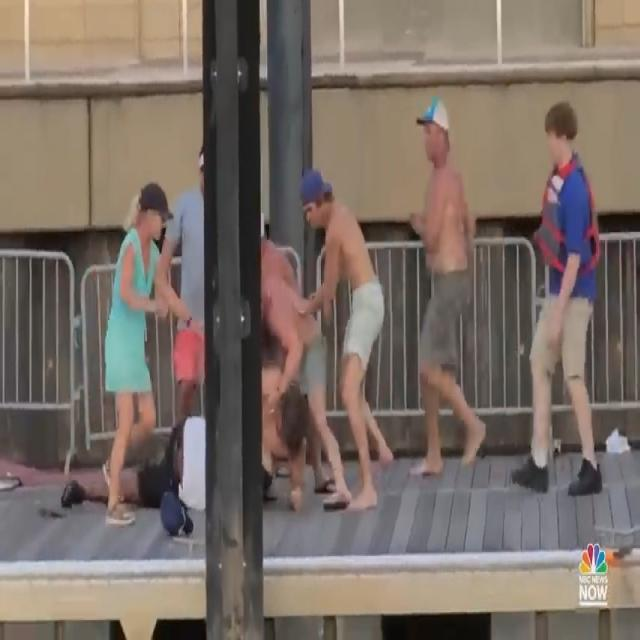fight: (59, 174, 397, 513)
non-fight: (406, 97, 619, 504), (101, 141, 208, 529)
